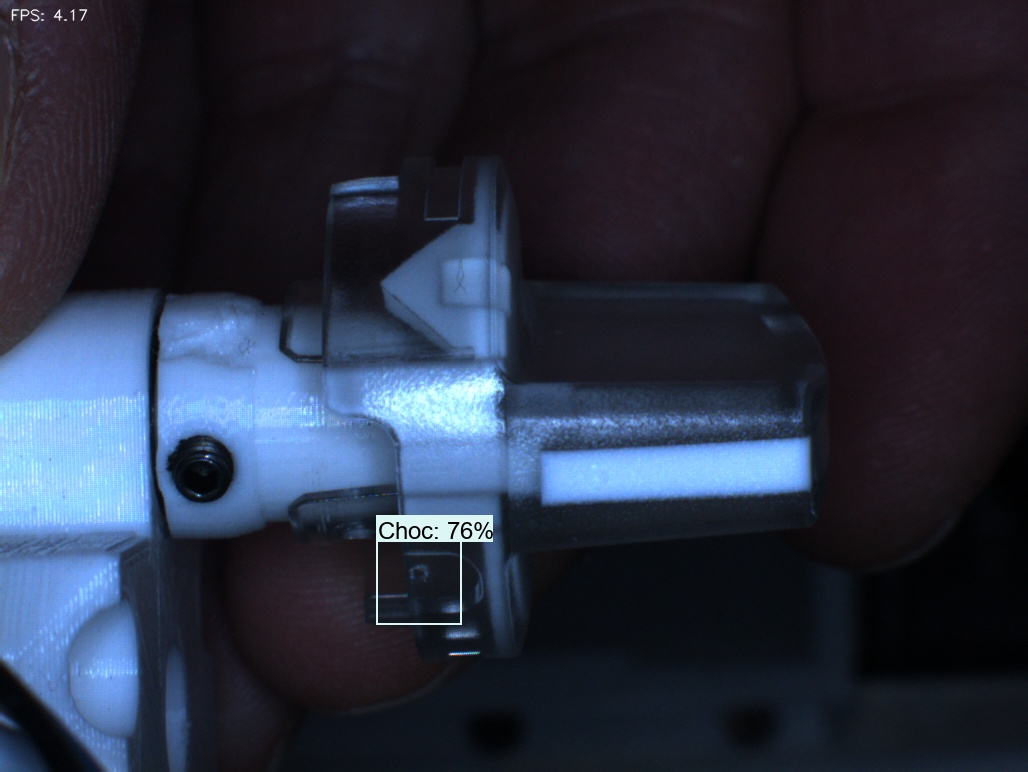DentOk: (348, 228, 430, 337)
